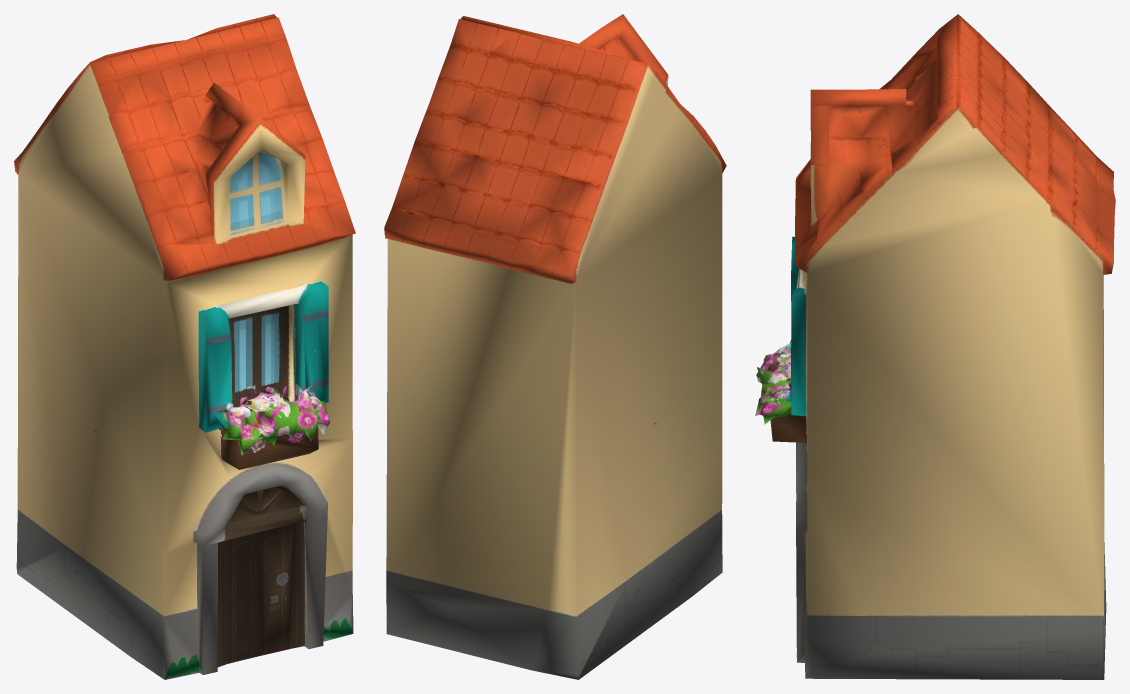
Rendered from house_terra_1.glb.
3 renders of one model, left to right at view 1: azimuth 30°, elevation 25°; view 2: azimuth 150°, elevation 25°; view 3: azimuth 270°, elevation 25°, orthographic.
Parts seen in each view (by area): view 1: ЦІЛЬ; view 2: ЦІЛЬ; view 3: ЦІЛЬ.
Boxes of the visible parts, bbox=[...] form: ЦІЛЬ: bbox=[14, 14, 355, 679]; ЦІЛЬ: bbox=[384, 14, 726, 679]; ЦІЛЬ: bbox=[755, 14, 1115, 679].
Size of the model in its own units: 0.7476 by 2.1 by 1.2.
Materials: 1 (1 with a texture image).
